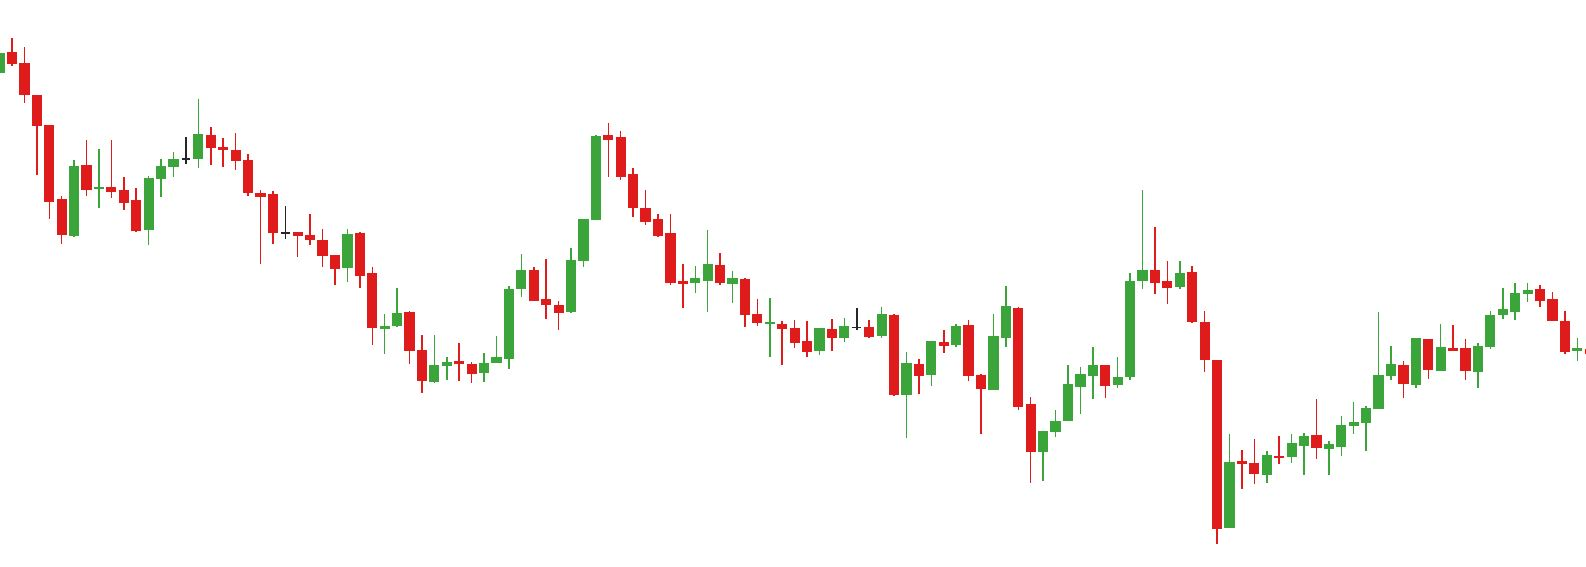buy: (1025, 363, 1237, 541)
sell: (105, 97, 217, 194)
